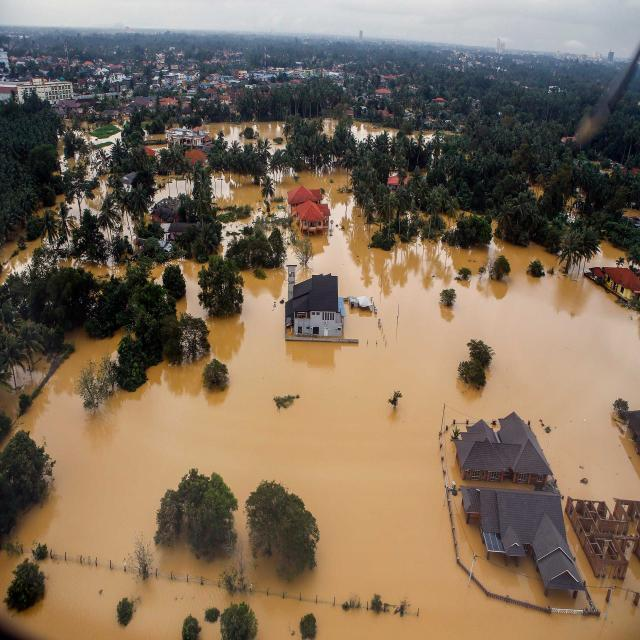flood: (10, 174, 640, 640), (560, 502, 640, 592), (271, 170, 360, 230), (212, 171, 265, 254), (201, 122, 285, 152), (0, 239, 41, 280), (180, 261, 204, 316), (59, 258, 125, 278), (81, 176, 110, 214), (154, 174, 190, 200), (353, 121, 399, 140), (594, 247, 623, 265), (309, 230, 330, 250), (145, 134, 168, 152), (60, 146, 76, 170), (362, 219, 378, 240), (324, 119, 339, 136), (69, 201, 78, 220), (152, 265, 162, 282), (123, 216, 130, 236), (105, 133, 120, 140), (425, 130, 435, 140), (99, 145, 112, 152)
house: (452, 409, 554, 498), (530, 502, 586, 598), (284, 271, 344, 346), (290, 187, 328, 242), (584, 264, 640, 300), (36, 73, 74, 100), (166, 126, 208, 149)
